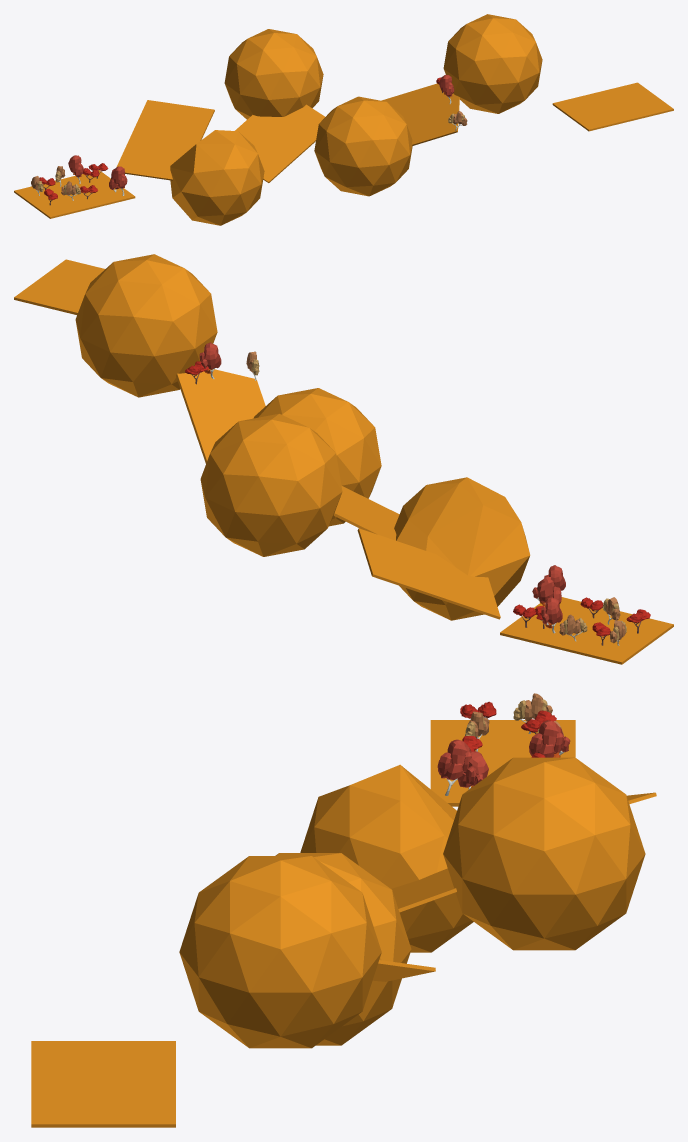
File: map2.glb
The picture shows the model from 3 angles, top to bottom: view 1: azimuth 30°, elevation 25°; view 2: azimuth 150°, elevation 25°; view 3: azimuth 270°, elevation 25°; orthographic projection. The views are drawn at different scales.
Visible parts, largest first — view 1: Icosphere.002, Icosphere, Icosphere.001, Icosphere.003, Cube.001, Cube.002, Cube.004, Cube.003, Cube; view 2: Icosphere.001, Icosphere, Icosphere.003, Icosphere.002, Cube.001, Cube, Cube.003, Cube.004, Cube.002; view 3: Icosphere.001, Icosphere, Icosphere.003, Cube.004, Icosphere.002, Cube, Cube.002, BirchTree_Autumn_1.003, BirchTree_Autumn_1.001, Cube.003, BirchTree_Autumn_1.002, BirchTree_Autumn_4.001.
Boxes of the visible parts, x1=… form: Icosphere.002: x1=314, y1=96, x2=412, y2=196; Icosphere: x1=443, y1=14, x2=542, y2=113; Icosphere.001: x1=224, y1=29, x2=323, y2=119; Icosphere.003: x1=170, y1=130, x2=264, y2=225; Cube.001: x1=116, y1=100, x2=214, y2=180; Cube.002: x1=235, y1=104, x2=324, y2=182; Cube.004: x1=552, y1=82, x2=673, y2=131; Cube.003: x1=381, y1=83, x2=459, y2=145; Cube: x1=14, y1=170, x2=135, y2=218; Icosphere.001: x1=200, y1=413, x2=342, y2=556; Icosphere: x1=75, y1=254, x2=217, y2=397; Icosphere.003: x1=394, y1=477, x2=530, y2=620; Icosphere.002: x1=253, y1=388, x2=381, y2=526; Cube.001: x1=357, y1=528, x2=500, y2=619; Cube: x1=500, y1=597, x2=673, y2=664; Cube.003: x1=176, y1=369, x2=265, y2=463; Cube.004: x1=14, y1=259, x2=104, y2=314; Cube.002: x1=333, y1=486, x2=399, y2=540; Icosphere.001: x1=443, y1=757, x2=645, y2=950; Icosphere: x1=179, y1=856, x2=381, y2=1048; Icosphere.003: x1=300, y1=764, x2=473, y2=952; Cube.004: x1=31, y1=1041, x2=175, y2=1127; Icosphere.002: x1=275, y1=853, x2=411, y2=1045; Cube: x1=430, y1=720, x2=575, y2=806; Cube.002: x1=391, y1=868, x2=456, y2=912; BirchTree_Autumn_1.003: x1=529, y1=720, x2=570, y2=757; BirchTree_Autumn_1.001: x1=437, y1=739, x2=471, y2=795; Cube.003: x1=372, y1=960, x2=435, y2=981; BirchTree_Autumn_1.002: x1=457, y1=751, x2=488, y2=789; BirchTree_Autumn_4.001: x1=513, y1=693, x2=552, y2=733.
Size of the model in its own units: 610 by 183 by 315.
